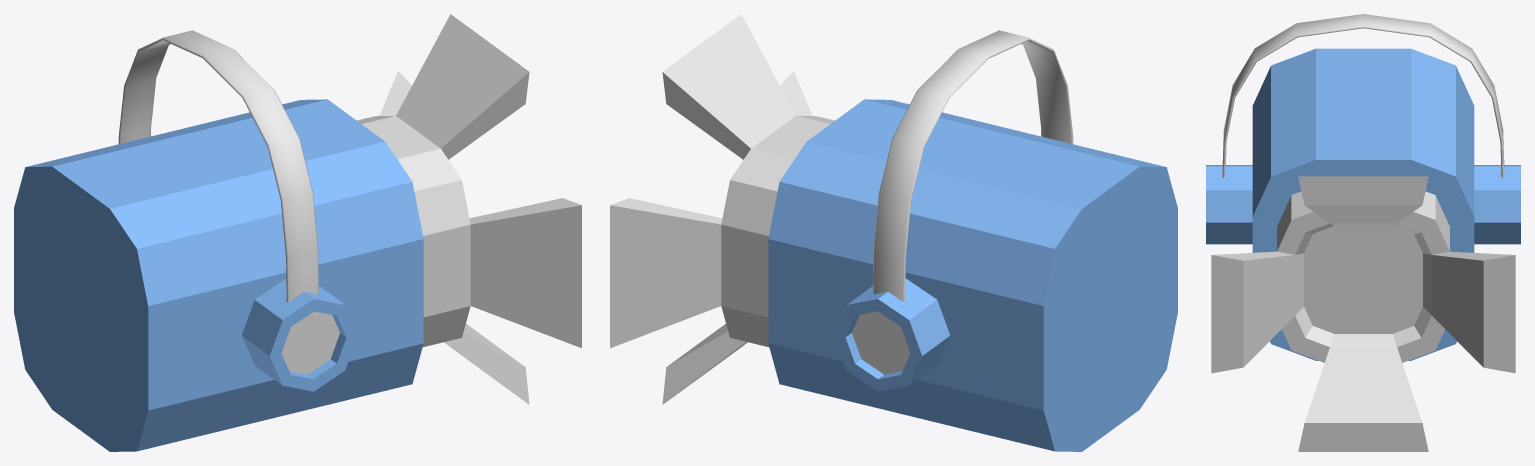
File: Foco.F_AssestsConcert.fbx
3 renders of one model, left to right at view 1: azimuth 30°, elevation 25°; view 2: azimuth 150°, elevation 25°; view 3: azimuth 270°, elevation 25°, orthographic. The views are drawn at different scales.
Visible parts, largest first — view 1: FocoFEO; view 2: FocoFEO; view 3: FocoFEO.
Part boxes in pixels (left/top/right/bottom): FocoFEO: left=14, top=14, right=581, bottom=451; FocoFEO: left=610, top=14, right=1177, bottom=451; FocoFEO: left=1206, top=14, right=1520, bottom=451.
Bounding box in the file's own units: 271 × 247 × 218.
